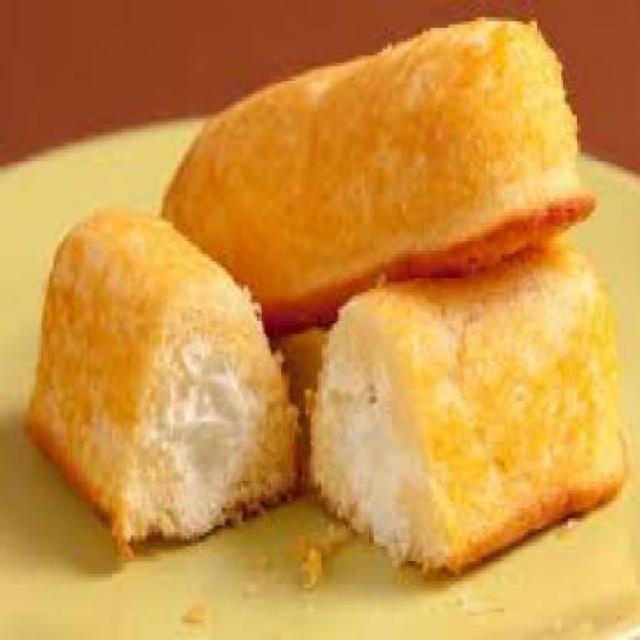Merendine packaged: (22, 212, 626, 578), (149, 21, 605, 321)
